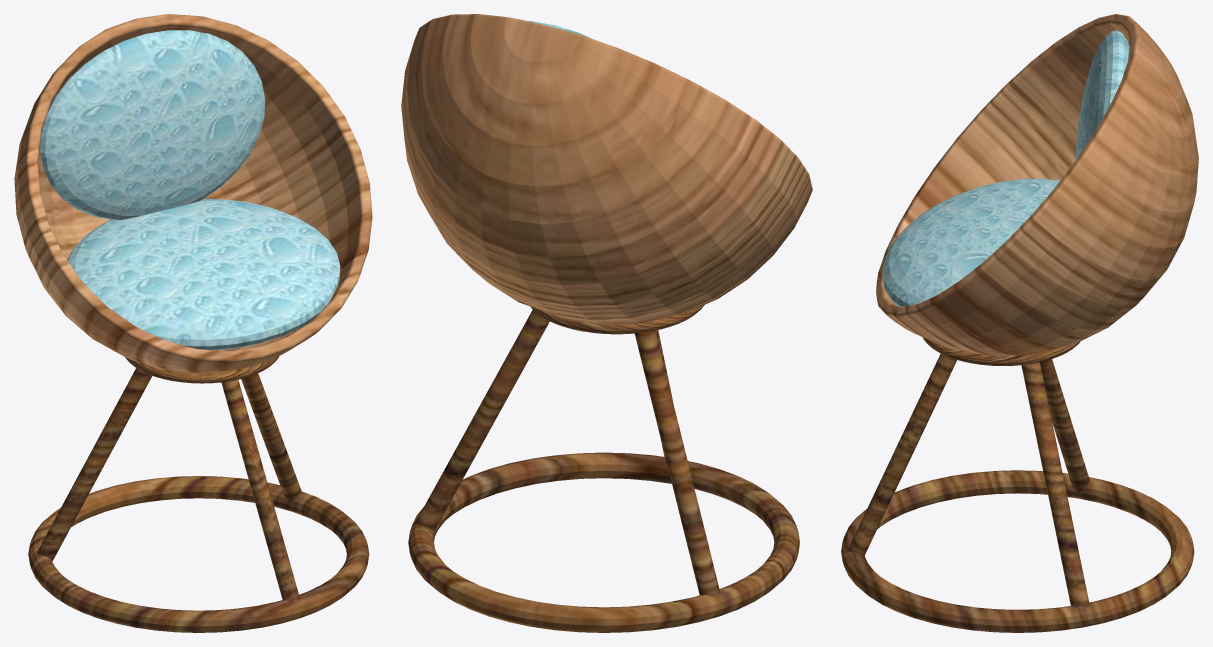
Rendered from coconchair.glb.
The picture shows the model from 3 angles, left to right: view 1: azimuth 30°, elevation 25°; view 2: azimuth 150°, elevation 25°; view 3: azimuth 270°, elevation 25°; orthographic projection. The views are drawn at different scales.
Bounding box in the file's own units: 0.5427 × 0.8115 × 0.5037.
3 materials, 3 textured.
